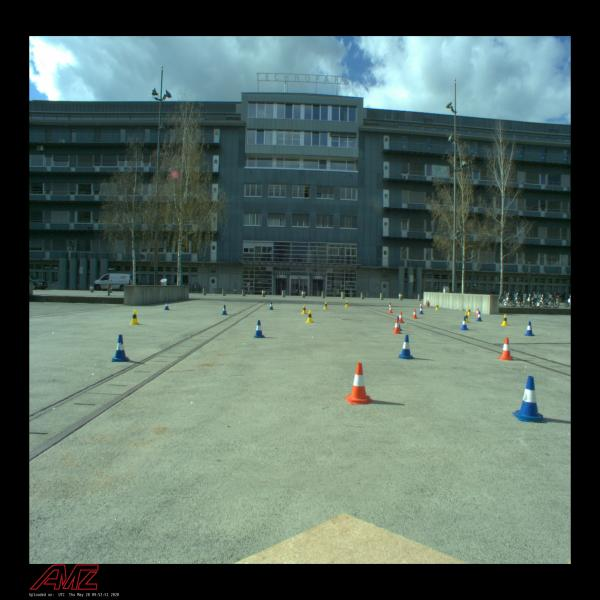blue_cone: (511, 375, 547, 424), (112, 334, 130, 362), (397, 334, 415, 360), (254, 320, 265, 338), (524, 321, 534, 336), (460, 317, 468, 330), (476, 311, 483, 321), (222, 305, 228, 315), (164, 301, 170, 310), (269, 302, 274, 310), (419, 306, 424, 314), (389, 302, 392, 310)
orange_cone: (345, 362, 373, 406), (496, 337, 514, 361), (391, 318, 402, 334), (412, 309, 418, 319), (399, 312, 404, 323), (474, 308, 479, 317), (388, 305, 393, 313), (419, 302, 423, 309)
yellow_cone: (129, 310, 140, 325), (502, 314, 510, 326), (306, 310, 313, 323), (465, 312, 470, 323), (301, 305, 307, 314), (323, 301, 328, 310), (467, 307, 472, 315), (435, 303, 440, 310), (345, 300, 349, 308)
